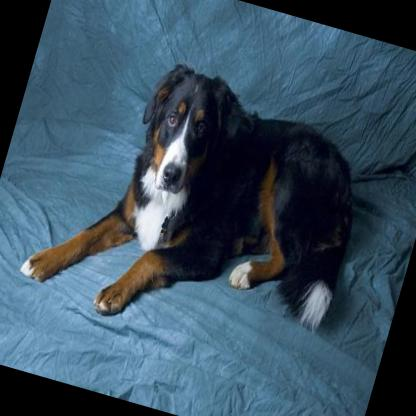Bernese_mountain_dog: (16, 35, 386, 372)
